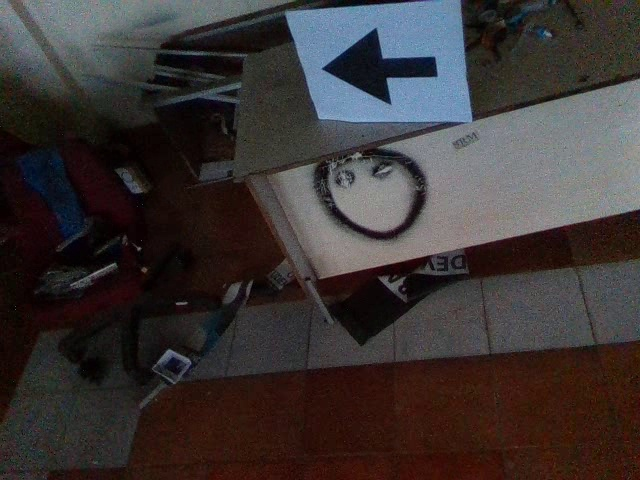Left: (315, 21, 442, 108)
